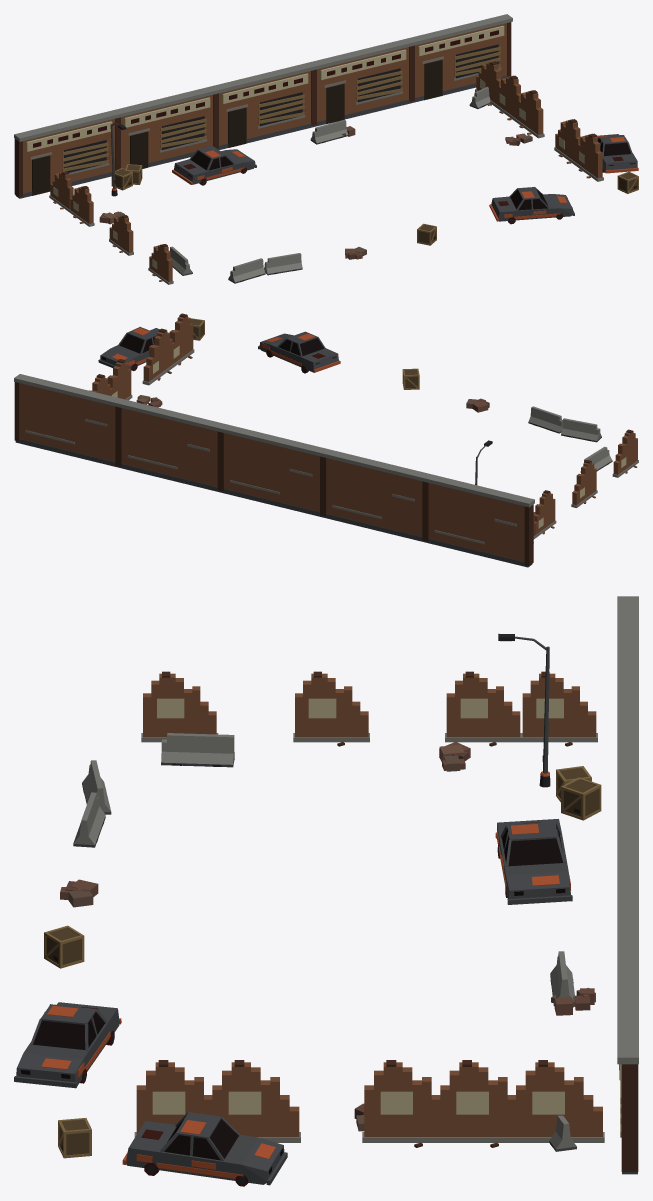
Rendered from hollis_outskirts.glb.
The picture shows the model from 3 angles, top to bottom: view 1: azimuth 30°, elevation 25°; view 2: azimuth 150°, elevation 25°; view 3: azimuth 270°, elevation 25°; orthographic projection. The views are drawn at different scales.
Parts seen in each view (by area): view 1: hollis_outskirts; view 2: hollis_outskirts; view 3: hollis_outskirts.
Part boxes in pixels (x1,y1,x2,y2): hollis_outskirts: (14, 14, 638, 284); hollis_outskirts: (14, 313, 638, 567); hollis_outskirts: (14, 596, 638, 1186).
Size of the model in its own units: 31.14 by 4.58 by 17.29.
